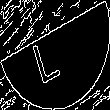L_N: (38, 26, 72, 84)
